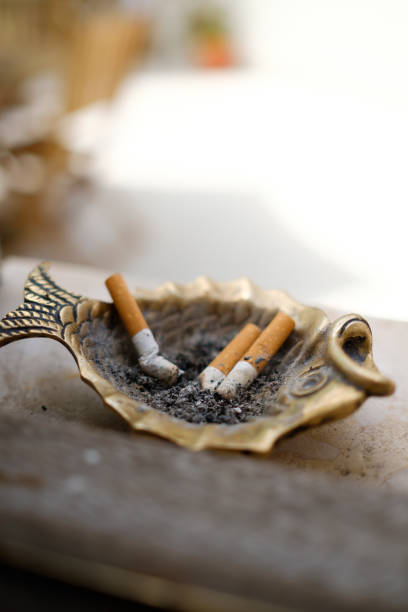cigarette: (104, 270, 186, 390), (215, 309, 296, 402), (194, 320, 261, 395)
